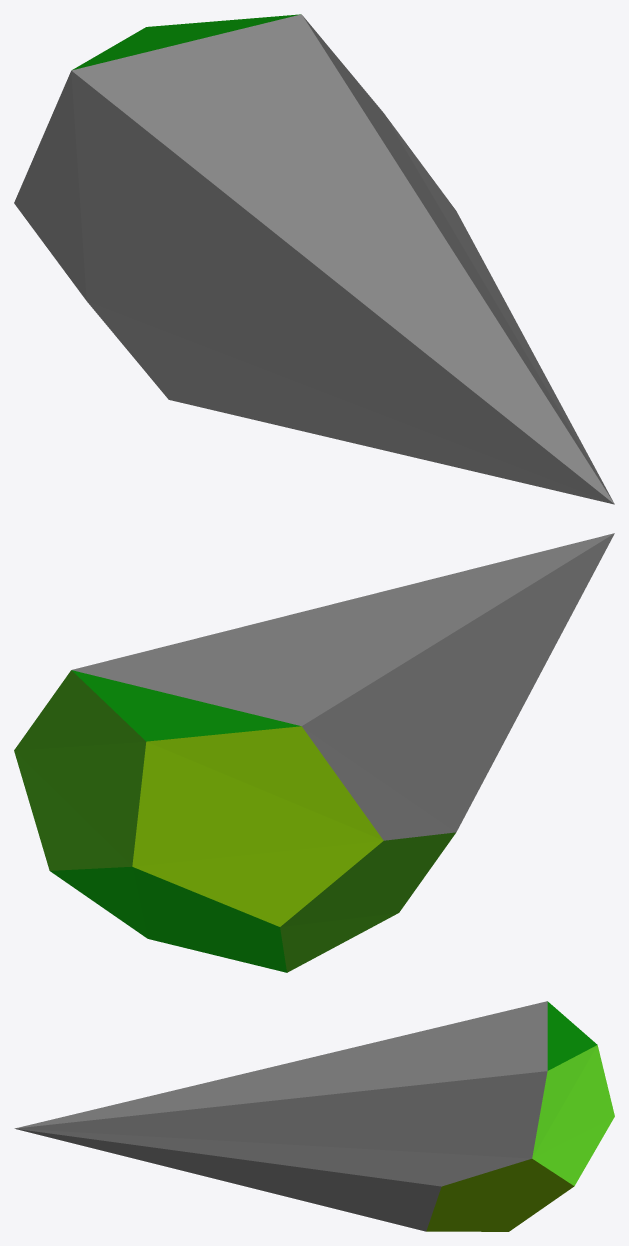
The model's file is anaconda.obj.
3 views of the same model, one above another, from view 1: azimuth 30°, elevation 25°; view 2: azimuth 150°, elevation 25°; view 3: azimuth 270°, elevation 25° (orthographic). The views are drawn at different scales.
Bounding box in the file's own units: 138 × 100 × 312.
